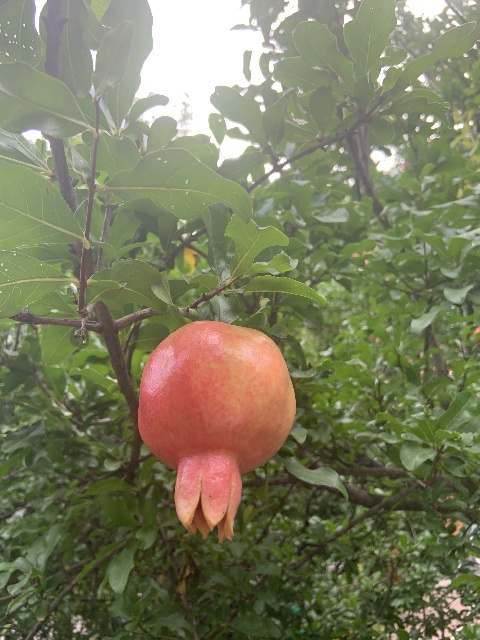ripe: (136, 320, 296, 543)
